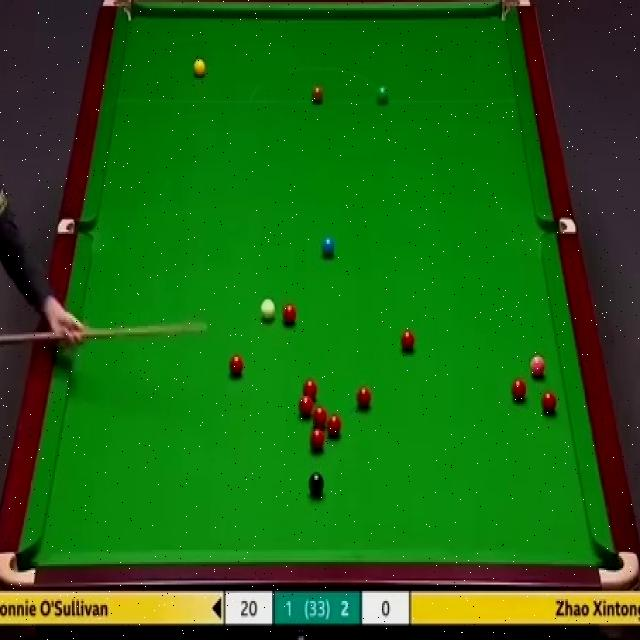black-ball: (308, 470, 325, 505)
blue-ball: (322, 236, 336, 258)
brown-ball: (310, 84, 324, 104)
green-ball: (376, 85, 391, 105)
pink-ball: (530, 356, 546, 376)
red-ball: (228, 353, 244, 378), (510, 378, 528, 400), (311, 426, 325, 454), (282, 302, 297, 327), (399, 328, 415, 351), (541, 391, 557, 414), (323, 411, 338, 434), (302, 378, 317, 400), (357, 388, 371, 410), (313, 405, 326, 428), (298, 395, 314, 413)
white-ball: (260, 298, 276, 324)
yellow-ball: (193, 58, 205, 80)
